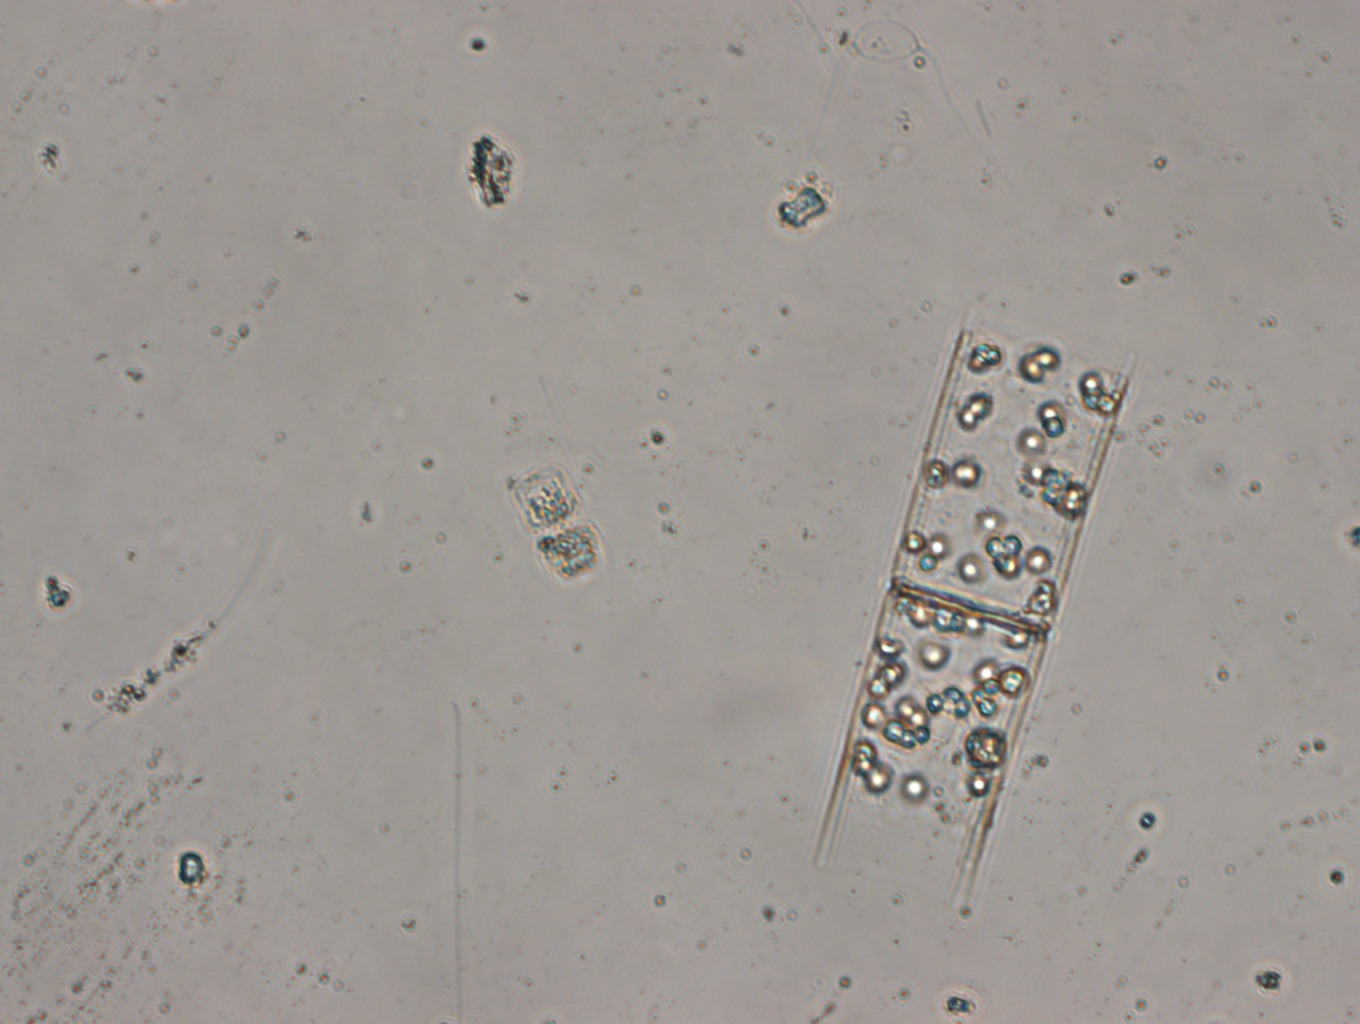guinardia flaccida: (811, 295, 1139, 915)
